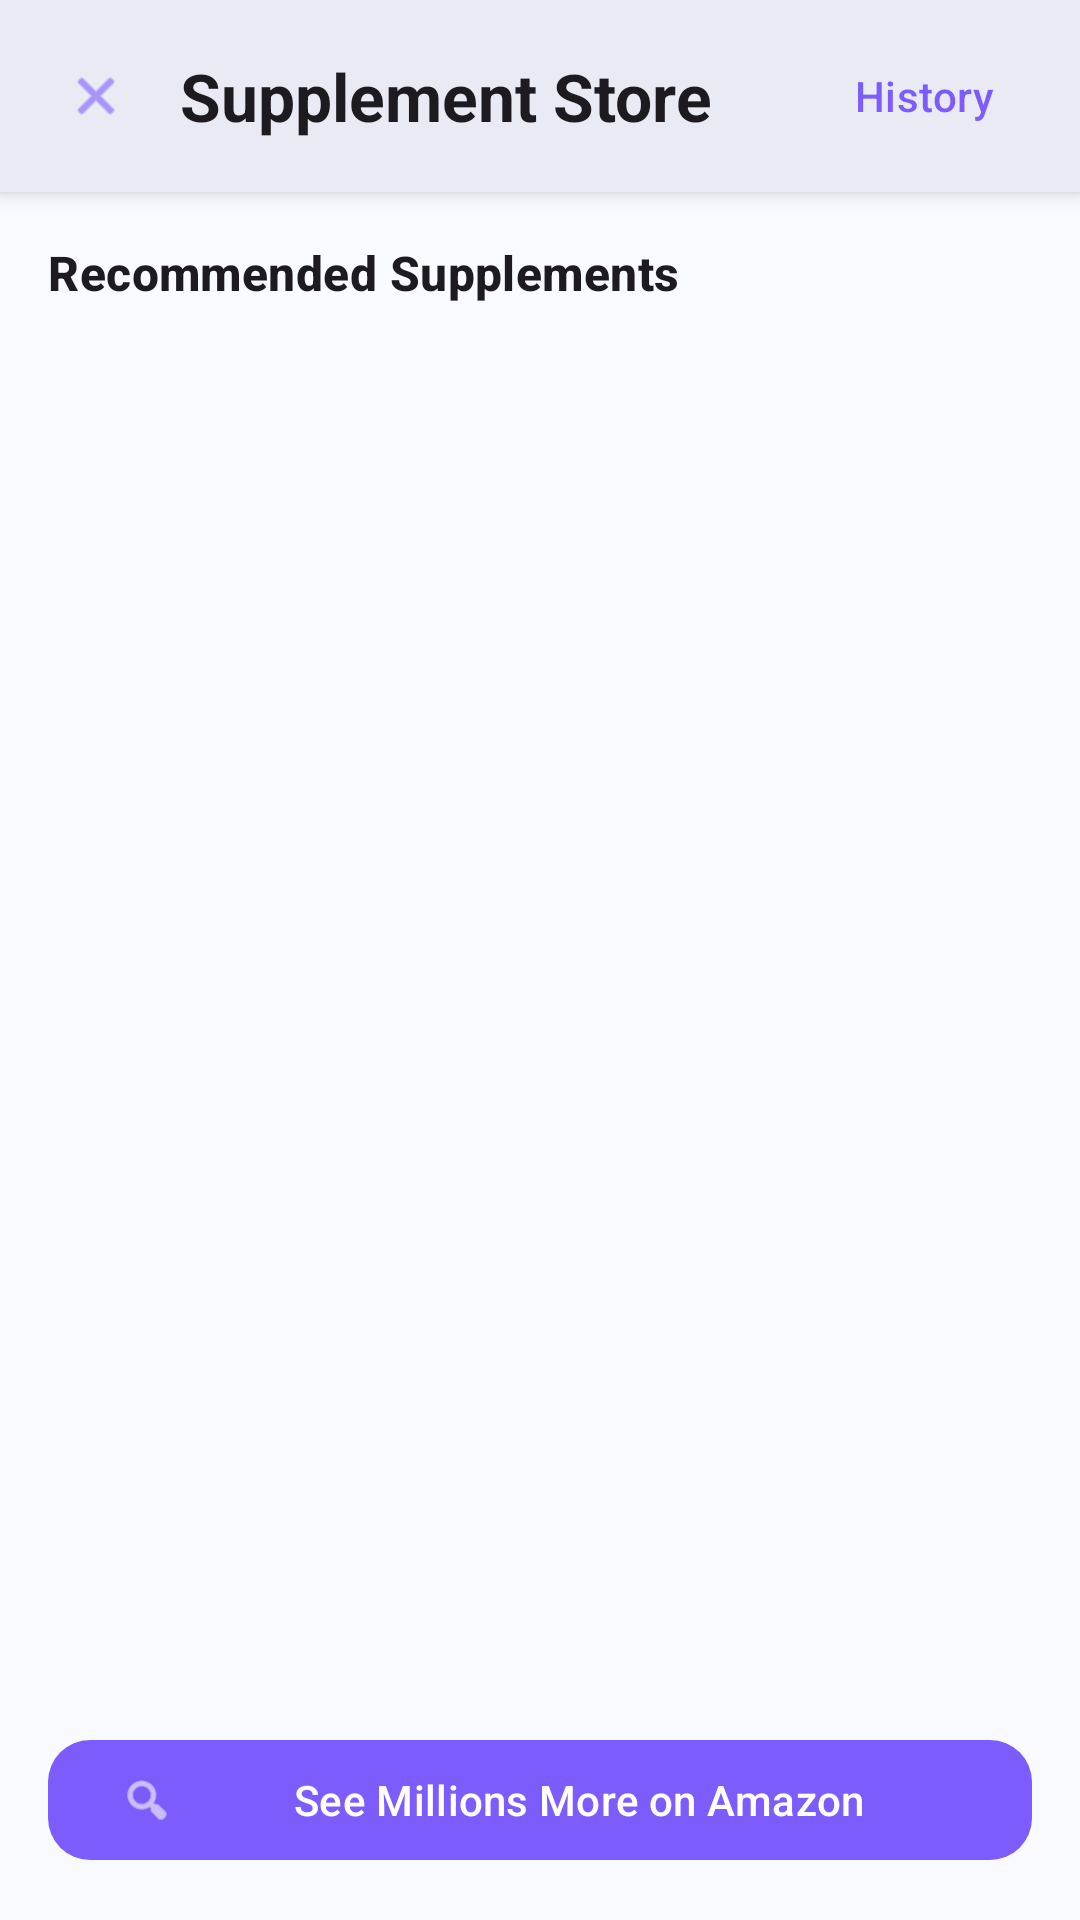

Screen size 1080x1920. Icon name, then its center in pixels as (x=x, y=y):
Back: (x=96, y=96)
